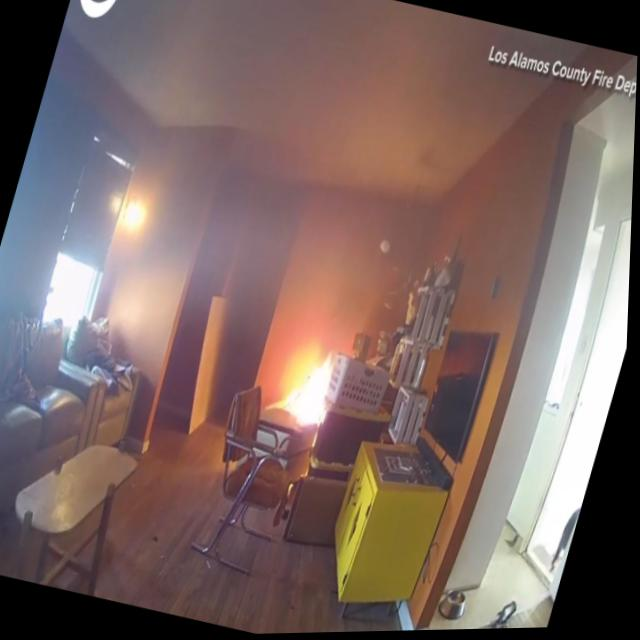fire: (277, 341, 350, 430)
